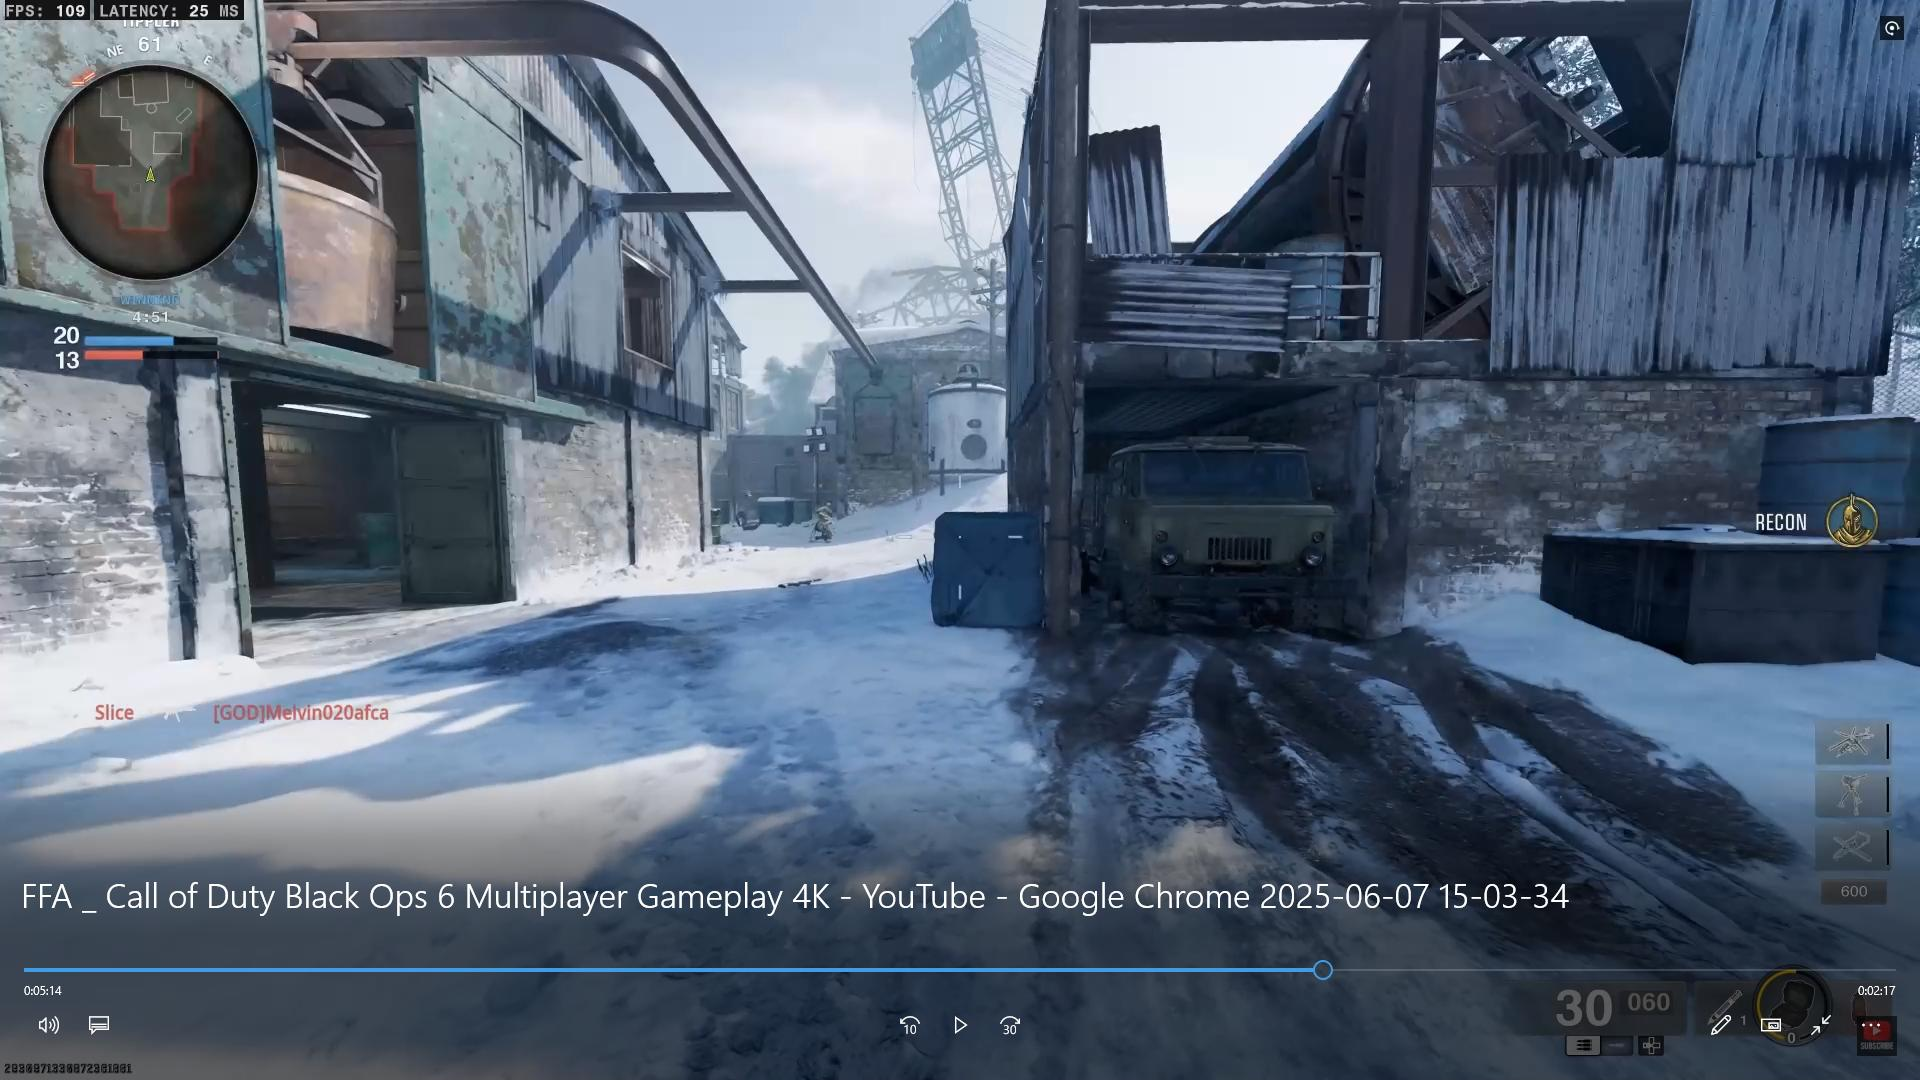Enemy: (795, 506, 844, 545)
